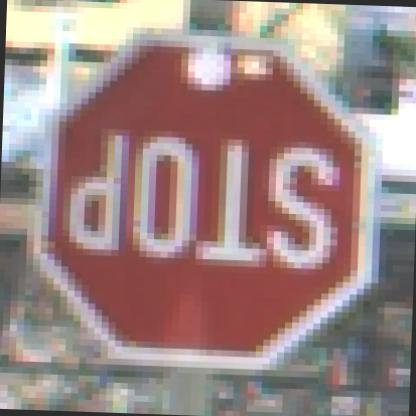stop: (36, 29, 374, 388)
